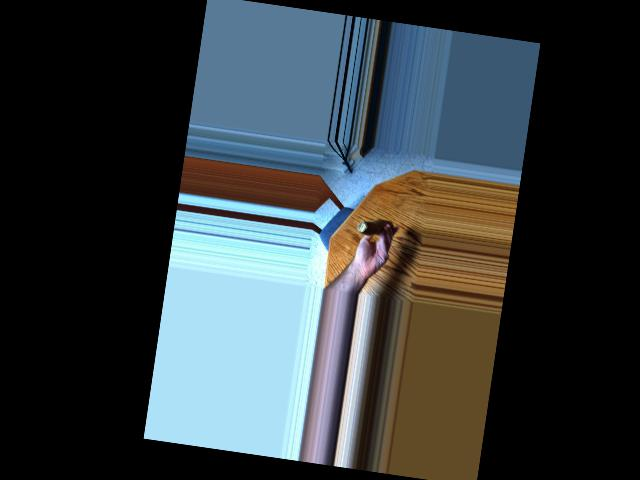sweet_potato: (350, 213, 396, 247)
